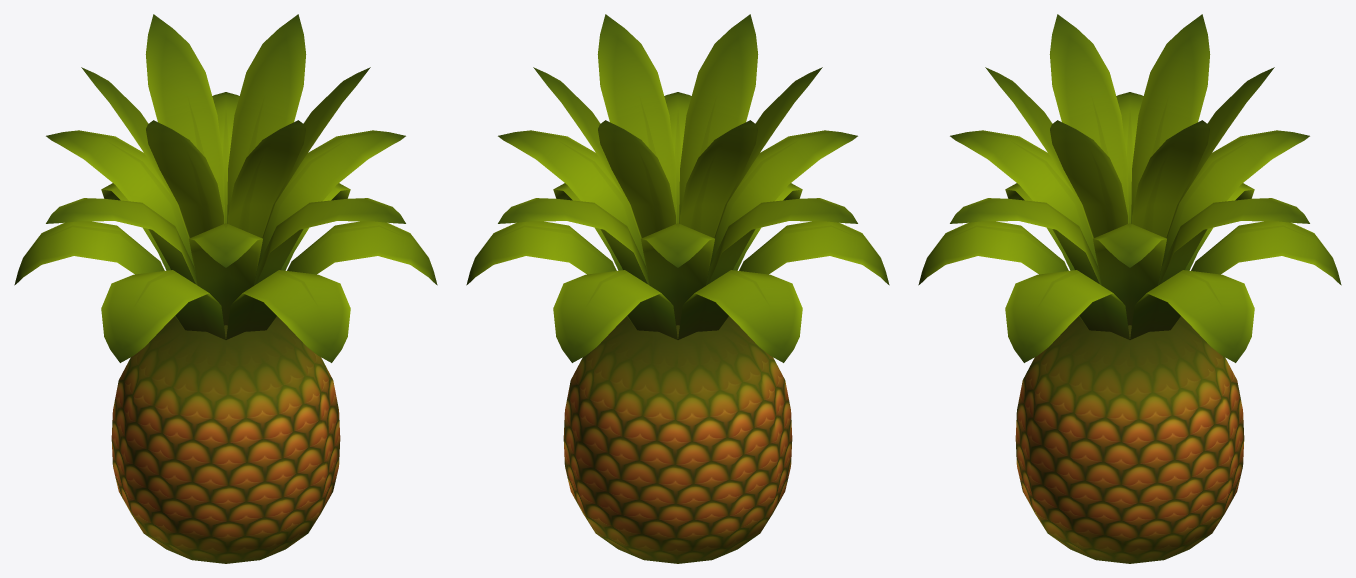
Rendered from Pineapple.fbx.
3 renders of one model, left to right at view 1: azimuth 30°, elevation 25°; view 2: azimuth 150°, elevation 25°; view 3: azimuth 270°, elevation 25°, orthographic.
Parts seen in each view (by area): view 1: Pineapple_Whole; view 2: Pineapple_Whole; view 3: Pineapple_Whole.
Boxes of the visible parts, bbox=[...] form: Pineapple_Whole: bbox=[14, 14, 437, 563]; Pineapple_Whole: bbox=[466, 14, 889, 563]; Pineapple_Whole: bbox=[918, 14, 1341, 563].
Bounding box in the file's own units: 3.33 × 4.28 × 3.38.
